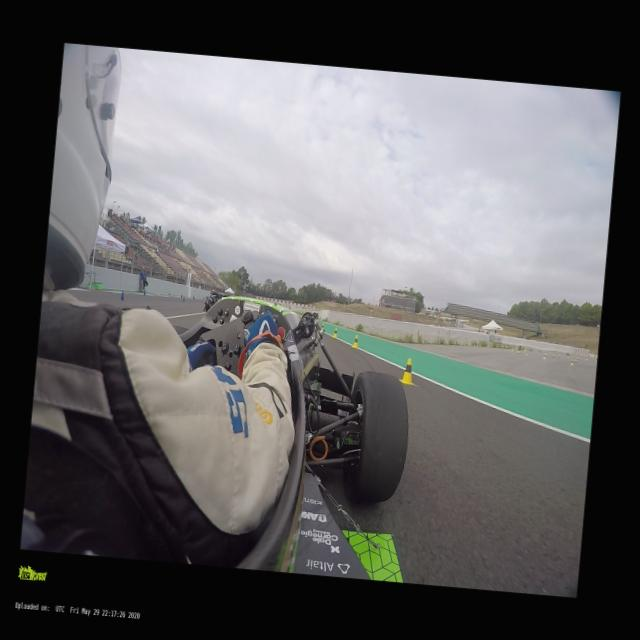blue_cone: (120, 290, 124, 300)
yellow_cone: (398, 356, 415, 387), (351, 334, 358, 348), (332, 327, 338, 338), (320, 322, 324, 330), (569, 359, 574, 365), (542, 354, 546, 359), (544, 350, 548, 354), (524, 350, 528, 354)
